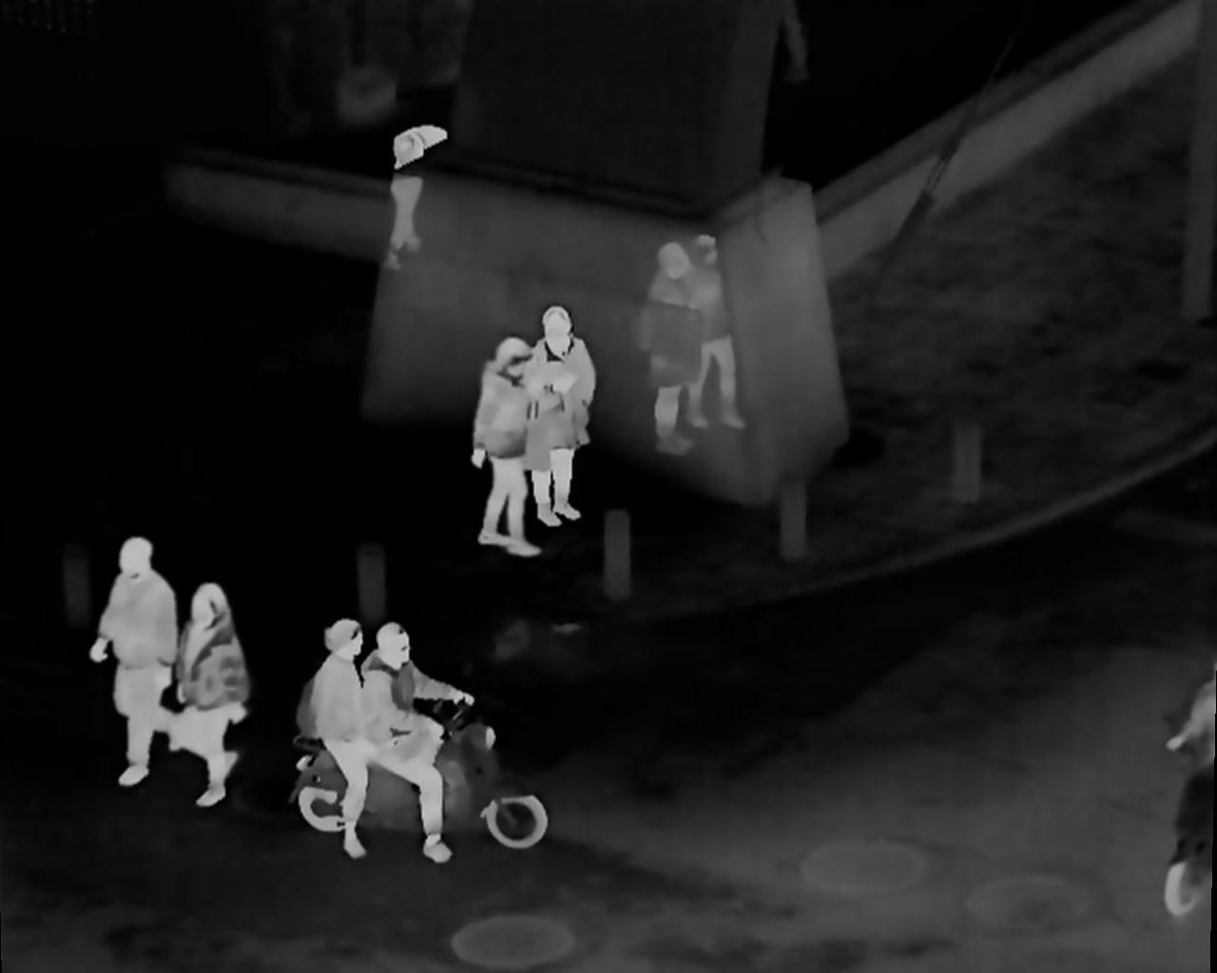person: (366, 623, 457, 863), (91, 535, 169, 789), (158, 591, 241, 808), (477, 340, 546, 559), (308, 617, 366, 866), (529, 310, 586, 524)
